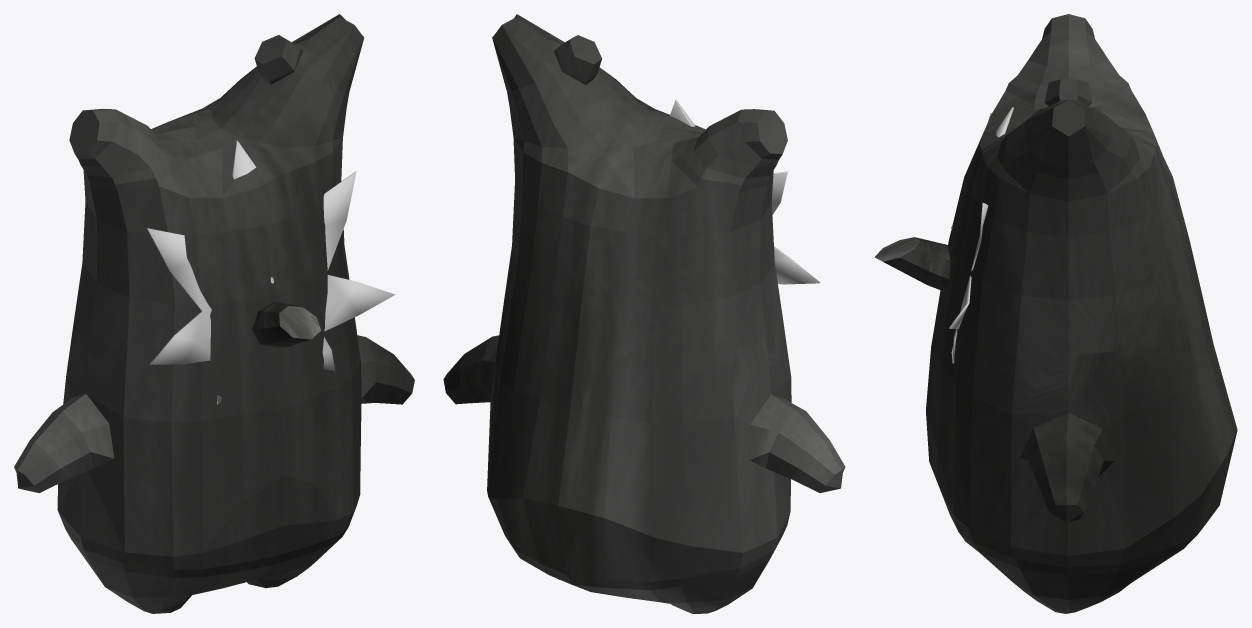
Rendered from frame_0029.obj.
3 views of the same model, side by side, from view 1: azimuth 30°, elevation 25°; view 2: azimuth 150°, elevation 25°; view 3: azimuth 270°, elevation 25° (orthographic).
Visible parts, largest first — view 1: korok, leaf.003_柱体.013, nose.003_柱体.011; view 2: korok, leaf.003_柱体.013; view 3: korok, nose.003_柱体.011, leaf.003_柱体.013.
Part boxes in pixels (left/top/right/bottom): korok: left=14, top=14, right=414, bottom=613; leaf.003_柱体.013: left=147, top=140, right=395, bottom=404; nose.003_柱体.011: left=252, top=301, right=320, bottom=347; korok: left=443, top=14, right=845, bottom=613; leaf.003_柱体.013: left=670, top=99, right=819, bottom=284; korok: left=926, top=14, right=1237, bottom=613; nose.003_柱体.011: left=874, top=237, right=950, bottom=291; leaf.003_柱体.013: left=949, top=107, right=1013, bottom=363.
Size of the model in its own units: 1.69 by 2.26 by 1.36.
